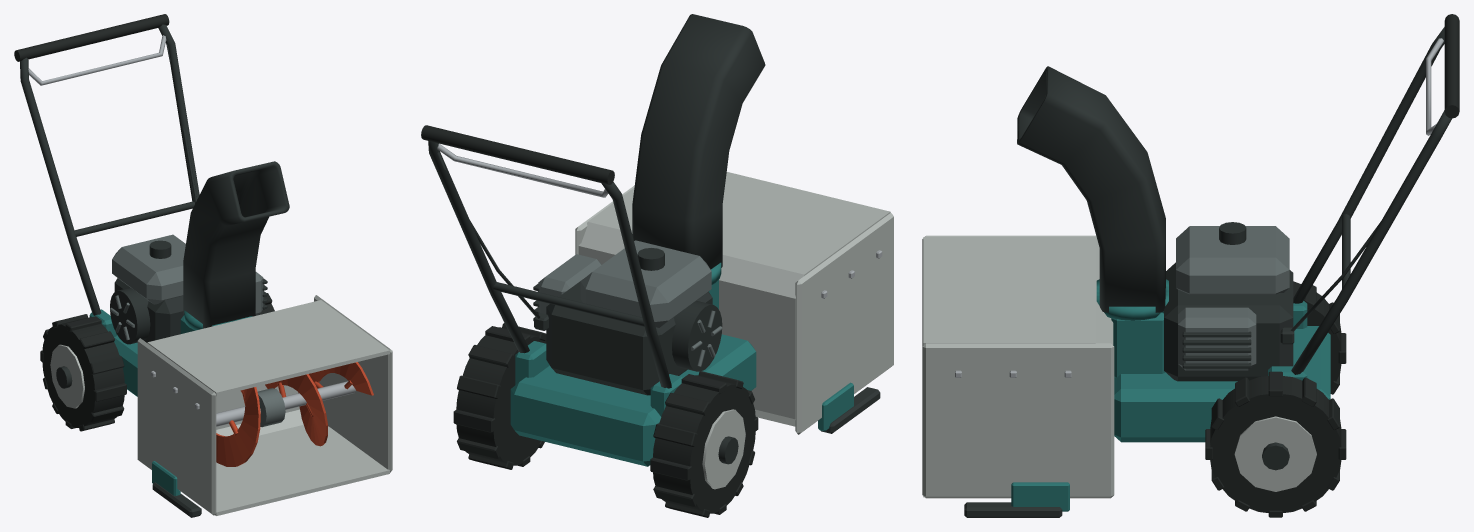
The picture shows the model from 3 angles, left to right: view 1: azimuth 30°, elevation 25°; view 2: azimuth 150°, elevation 25°; view 3: azimuth 270°, elevation 25°; orthographic projection. The views are drawn at different scales.
Visible parts, largest first — view 1: Closed sheet open-front auger bucket, Open curved discharge chute shell, Bucket side cheek -1, Bucket side cheek 1, Rear tire -1, Raised engine upper cover, Original spiral auger ribbon 1, Rear handle rail -1, Original spiral auger ribbon -1, Upper handle grip bridge, Side starter round housing, Lower engine block (+9 smaller); view 2: Closed sheet open-front auger bucket, Open curved discharge chute shell, Bucket side cheek -1, Main closed drive chassis, Lower engine block, Rear tire -1, Raised engine upper cover, Rear tire 1, Upper handle grip bridge, Side starter round housing, Rear handle rail 1, Rear handle rail -1 (+15 smaller); view 3: Bucket side cheek 1, Closed sheet open-front auger bucket, Open curved discharge chute shell, Rear tire 1, Main closed drive chassis, Raised engine upper cover, Lower engine block, Rear wheel rim 1, Rear handle rail 1, Side muffler enclosure, Rear handle rail -1, Generic closed chute support housing (+7 smaller).
Boxes of the visible parts, <box> form: Closed sheet open-front auger bucket: <box>147,300,389,515</box>; Open curved discharge chute shell: <box>183,161,289,328</box>; Bucket side cheek -1: <box>137,338,216,515</box>; Bucket side cheek 1: <box>314,295,392,472</box>; Rear tire -1: <box>42,317,124,427</box>; Raised engine upper cover: <box>112,234,185,304</box>; Original spiral auger ribbon 1: <box>265,362,373,446</box>; Rear handle rail -1: <box>20,57,101,315</box>; Original spiral auger ribbon -1: <box>216,387,260,466</box>; Upper handle grip bridge: <box>14,14,169,61</box>; Side starter round housing: <box>110,287,150,344</box>; Lower engine block: <box>114,278,183,342</box>; Closed sheet open-front auger bucket: <box>578,172,890,426</box>; Open curved discharge chute shell: <box>632,14,765,269</box>; Bucket side cheek -1: <box>795,213,893,434</box>; Main closed drive chassis: <box>510,334,756,466</box>; Lower engine block: <box>546,279,712,395</box>; Rear tire -1: <box>653,375,755,513</box>; Raised engine upper cover: <box>580,240,711,327</box>; Rear tire 1: <box>456,327,546,465</box>; Upper handle grip bridge: <box>421,125,614,184</box>; Side starter round housing: <box>672,301,722,371</box>; Rear handle rail 1: <box>428,141,529,353</box>; Rear handle rail -1: <box>601,182,671,388</box>; Bucket side cheek 1: <box>922,343,1114,498</box>; Closed sheet open-front auger bucket: <box>923,237,1113,497</box>; Open curved discharge chute shell: <box>1017,66,1165,312</box>; Rear tire 1: <box>1210,376,1341,512</box>; Main closed drive chassis: <box>1114,326,1330,442</box>; Raised engine upper cover: <box>1176,226,1289,294</box>; Lower engine block: <box>1164,262,1293,381</box>; Rear wheel rim 1: <box>1234,416,1316,491</box>; Rear handle rail 1: <box>1291,110,1451,374</box>; Side muffler enclosure: <box>1178,307,1256,370</box>; Rear handle rail -1: <box>1293,27,1444,303</box>; Generic closed chute support housing: <box>1111,312,1165,377</box>.
Bounding box in the file's own units: 74.2 × 113 × 137.
